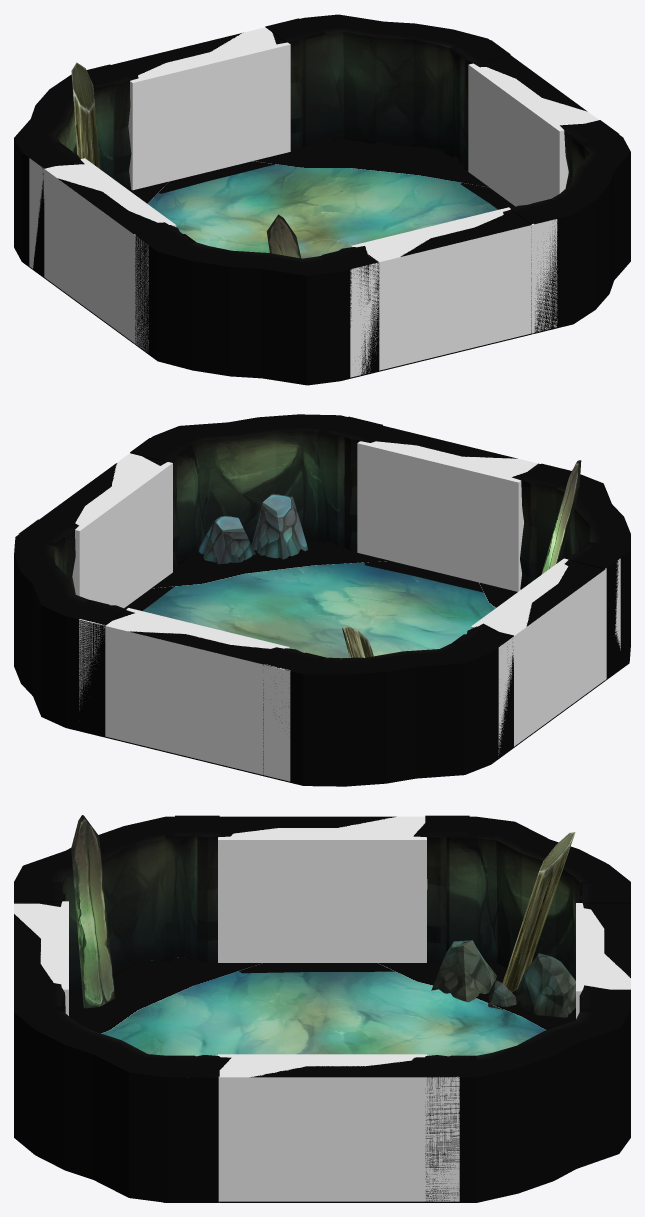
File: Dungeon_073_SpecialRoom_001.fbx
The picture shows the model from 3 angles, top to bottom: view 1: azimuth 30°, elevation 25°; view 2: azimuth 150°, elevation 25°; view 3: azimuth 270°, elevation 25°; orthographic projection. The views are drawn at different scales.
Parts seen in each view (by area): view 1: Dun_073_StartRoom_001_wall, DoorWay_NavMask (1) (×4), DoorWay_NavMask (3) (×3), Dun_073_StartRoom_001_ground, Dun_073_Door_002 (×4), Dun_073_StartRoom_001_shadow, Dun_073_OB_Rubble, DoorWay_NavMask (2) (×3), Dun_073_Door_002_shadow (×2); view 2: Dun_073_StartRoom_001_wall, DoorWay_NavMask (1) (×4), DoorWay_NavMask (3) (×3), Dun_073_StartRoom_001_ground, Dun_073_Door_002 (×4), Dun_073_OB_Stone01, Dun_073_StartRoom_001_shadow, DoorWay_NavMask (2) (×4), Dun_073_OB_Rubble, Dun_073_Door_002_shadow; view 3: Dun_073_StartRoom_001_wall, DoorWay_NavMask (1) (×4), DoorWay_NavMask (3) (×3), Dun_073_StartRoom_001_ground, Dun_073_Door_002 (×4), Dun_073_OB_Rubble, Dun_073_StartRoom_001_shadow, Dun_073_OB_Stone01, DoorWay_NavMask (2) (×4), Dun_073_Door_002_shadow.
Part boxes in pixels (bbox=[...]): Dun_073_StartRoom_001_wall: bbox=[14, 14, 630, 385]; DoorWay_NavMask (1) (×4): bbox=[43, 27, 595, 319]; DoorWay_NavMask (3) (×3): bbox=[29, 27, 557, 377]; Dun_073_StartRoom_001_ground: bbox=[134, 164, 534, 344]; Dun_073_Door_002 (×4): bbox=[25, 18, 618, 371]; Dun_073_StartRoom_001_shadow: bbox=[129, 139, 488, 203]; Dun_073_OB_Rubble: bbox=[71, 62, 300, 258]; DoorWay_NavMask (2) (×3): bbox=[58, 33, 415, 256]; Dun_073_Door_002_shadow (×2): bbox=[158, 161, 515, 209]; Dun_073_StartRoom_001_wall: bbox=[14, 414, 630, 786]; DoorWay_NavMask (1) (×4): bbox=[72, 441, 605, 773]; DoorWay_NavMask (3) (×3): bbox=[79, 443, 620, 781]; Dun_073_StartRoom_001_ground: bbox=[142, 562, 606, 680]; Dun_073_Door_002 (×4): bbox=[19, 416, 624, 776]; Dun_073_OB_Stone01: bbox=[198, 493, 308, 564]; Dun_073_StartRoom_001_shadow: bbox=[151, 539, 517, 607]; DoorWay_NavMask (2) (×4): bbox=[114, 457, 530, 632]; Dun_073_OB_Rubble: bbox=[342, 460, 581, 657]; Dun_073_Door_002_shadow: bbox=[364, 561, 483, 592]; Dun_073_StartRoom_001_wall: bbox=[14, 816, 630, 1202]; DoorWay_NavMask (1) (×4): bbox=[14, 816, 607, 1201]; DoorWay_NavMask (3) (×3): bbox=[218, 816, 630, 1201]; Dun_073_StartRoom_001_ground: bbox=[102, 957, 545, 1202]; Dun_073_Door_002 (×4): bbox=[14, 815, 630, 1202]; Dun_073_OB_Rubble: bbox=[71, 815, 575, 1008]; Dun_073_StartRoom_001_shadow: bbox=[69, 957, 575, 1033]; Dun_073_OB_Stone01: bbox=[431, 940, 575, 1017]; DoorWay_NavMask (2) (×4): bbox=[20, 819, 624, 1074]; Dun_073_Door_002_shadow: bbox=[239, 963, 394, 973].
Size of what is drawn, in the model's own units: 9 by 2.89 by 9.
